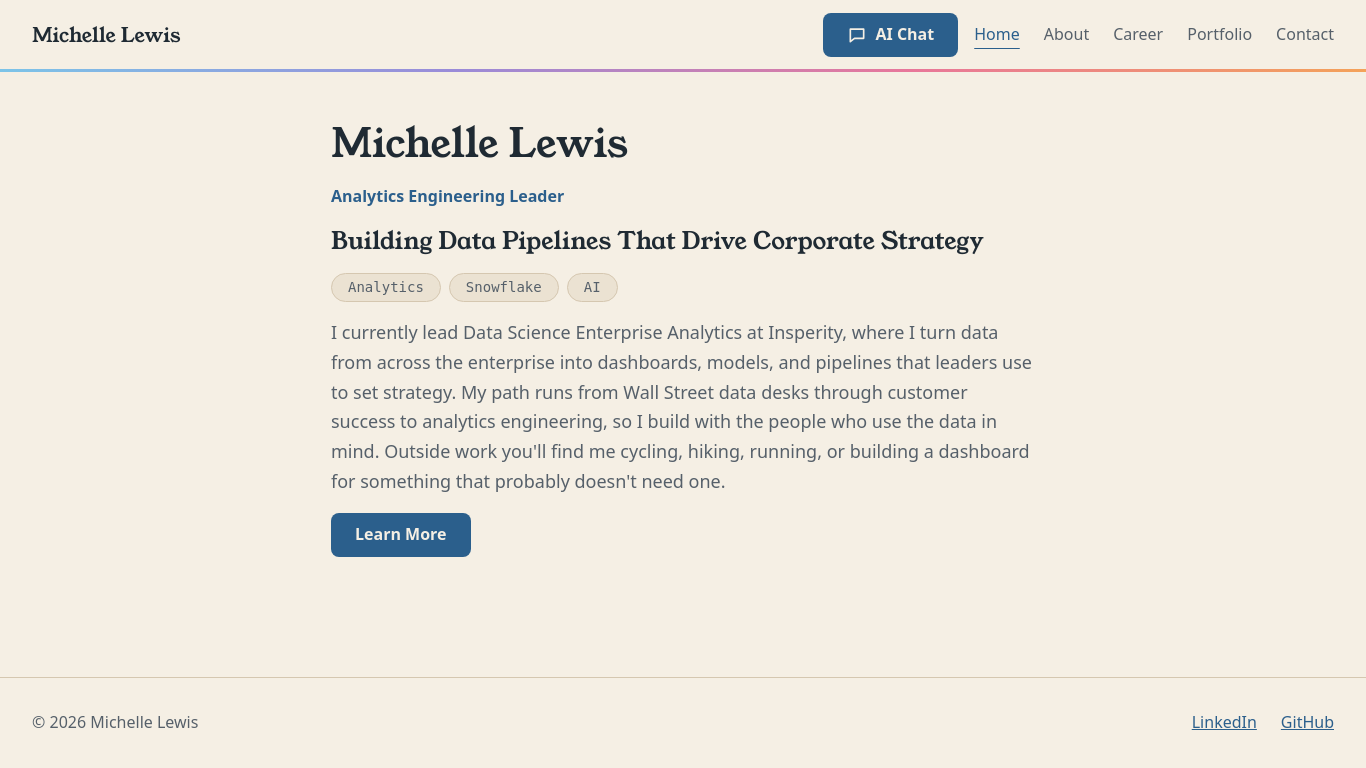
it: resizing: an open phone chat docks on desktop and unlocks the page
This screenshot has width=1366, height=768.
Step 1. Click the button "AI Chat" → (891, 34), box [824, 12, 958, 56]
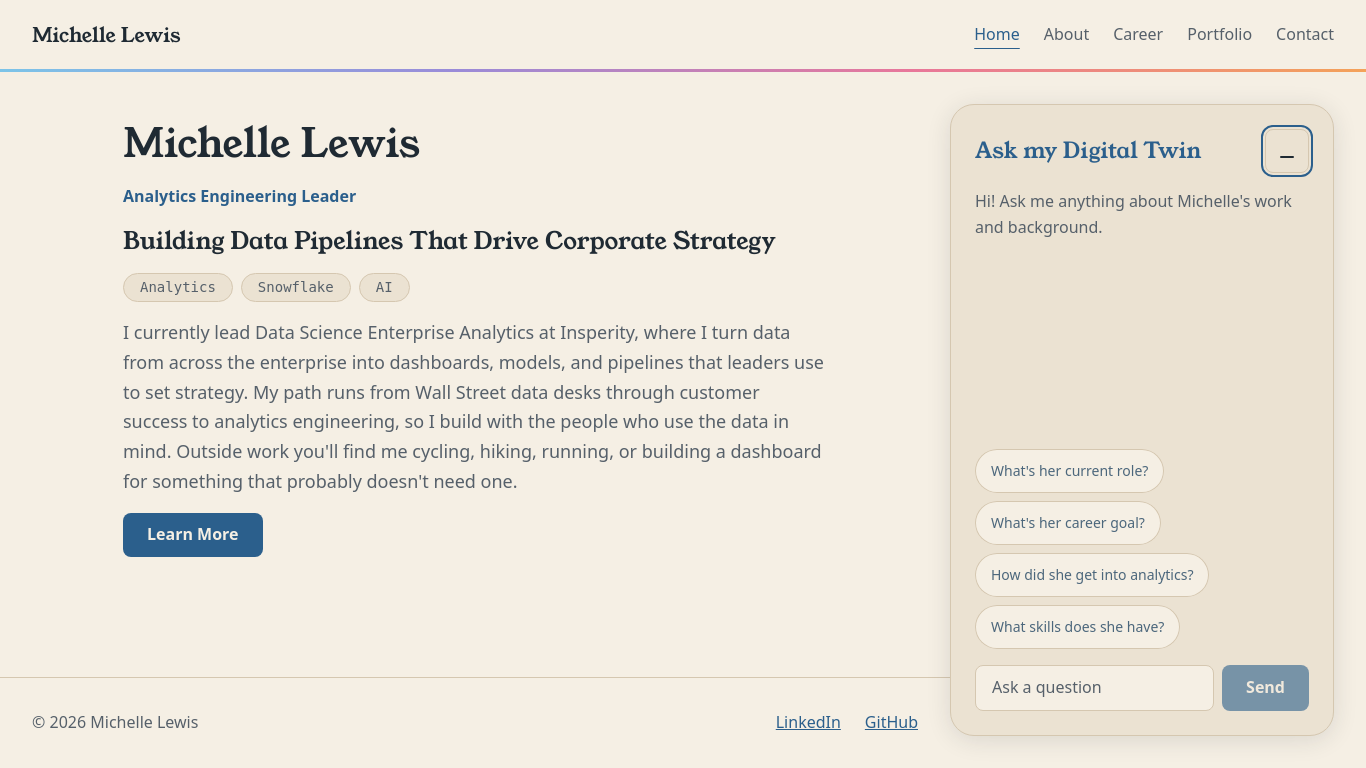
Expected: the heading "Ask my Digital Twin" is shown, [975, 138, 1202, 164]
